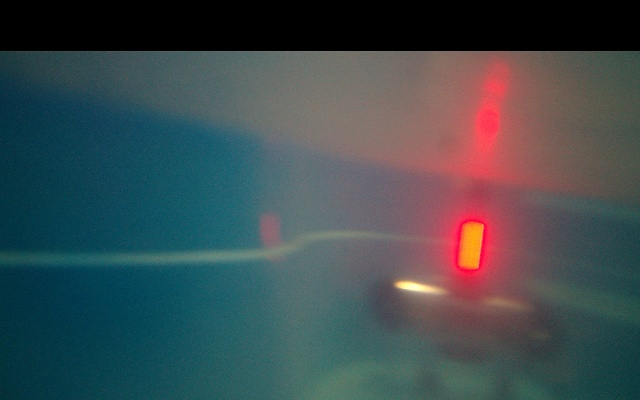red: (459, 220, 483, 275)
